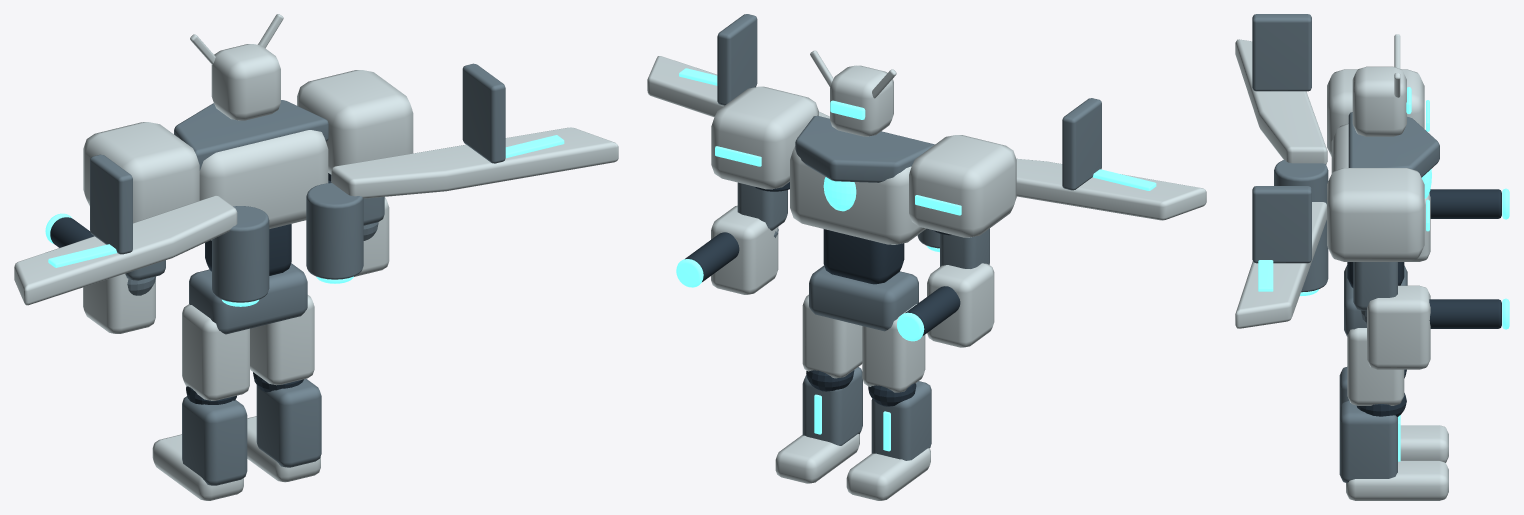
Rendered from AstraFrame.fbx.
The picture shows the model from 3 angles, left to right: view 1: azimuth 30°, elevation 25°; view 2: azimuth 150°, elevation 25°; view 3: azimuth 270°, elevation 25°; orthographic projection. The views are drawn at different scales.
Parts seen in each view (by area): view 1: Flight wing.001, Flight wing, Chest armor, Pauldron.001, Pauldron, Back thruster.001, Thigh armor, Shin armor, Shin armor.001, Back thruster, Chest collar, Helmet (+12 smaller); view 2: Pauldron, Pauldron.001, Chest armor, Flight wing, Chest collar, Pelvis armor, Forearm weapon, Forearm weapon.001, Thigh armor, Thigh armor.001, Helmet, Shin armor (+17 smaller); view 3: Pauldron.001, Forearm weapon.001, Flight wing, Wing stabilizer, Wing stabilizer.001, Shin armor.001, Flight wing.001, Helmet, Chest collar, Flight boot.001, Thigh armor.001, Pauldron (+12 smaller).
Boxes of the visible parts, box(x1,y1,x2,y2) form: Flight wing.001: box(331, 127, 618, 198); Flight wing: box(14, 196, 237, 305); Chest armor: box(199, 130, 328, 240); Pauldron.001: box(297, 70, 413, 174); Pauldron: box(83, 122, 199, 222); Back thruster.001: box(306, 183, 363, 279); Thigh armor: box(182, 304, 249, 400); Shin armor: box(182, 396, 247, 485); Shin armor.001: box(256, 379, 321, 467); Back thruster: box(212, 206, 269, 302); Chest collar: box(174, 100, 328, 170); Helmet: box(211, 44, 280, 120); Pauldron: box(909, 135, 1016, 237); Pauldron.001: box(711, 86, 818, 189); Chest armor: box(790, 146, 926, 244); Flight wing: box(1016, 158, 1206, 220); Chest collar: box(795, 115, 934, 182); Pelvis armor: box(809, 265, 918, 331); Forearm weapon: box(927, 263, 994, 347); Forearm weapon.001: box(711, 205, 778, 294); Thigh armor: box(862, 304, 925, 392); Thigh armor.001: box(802, 294, 862, 378); Helmet: box(830, 65, 893, 136); Shin armor: box(871, 381, 931, 460); Pauldron.001: box(1327, 168, 1424, 261); Forearm weapon.001: box(1367, 285, 1430, 369); Flight wing: box(1235, 39, 1327, 164); Wing stabilizer: box(1252, 14, 1311, 91); Wing stabilizer.001: box(1252, 186, 1311, 263); Shin armor.001: box(1339, 400, 1397, 483); Flight wing.001: box(1235, 202, 1326, 328); Helmet: box(1352, 66, 1406, 136); Chest collar: box(1348, 112, 1439, 177); Flight boot.001: box(1346, 460, 1448, 500); Thigh armor.001: box(1347, 328, 1404, 405); Pauldron: box(1327, 69, 1424, 156).
Size of the model in its own units: 478 by 344 by 202.
